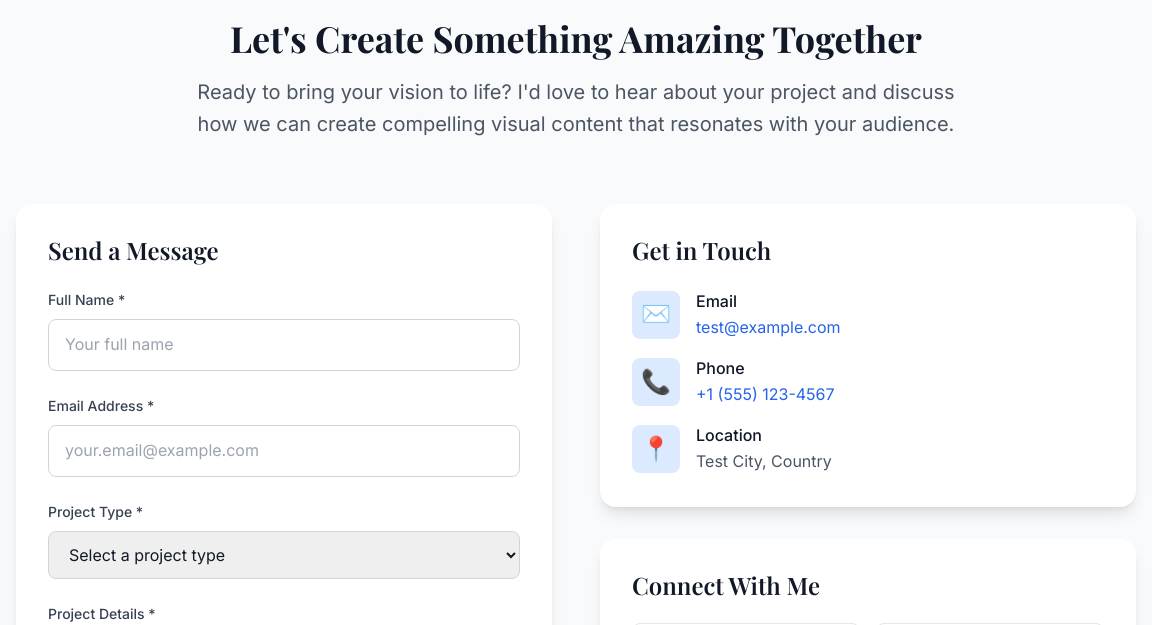
Test: Contact Component Unit Tests › Form Field Validation and Submission › should show success message after successful submission
In the field labelled "Full Name *": (284, 345) [48, 319, 520, 371], type "John Doe"
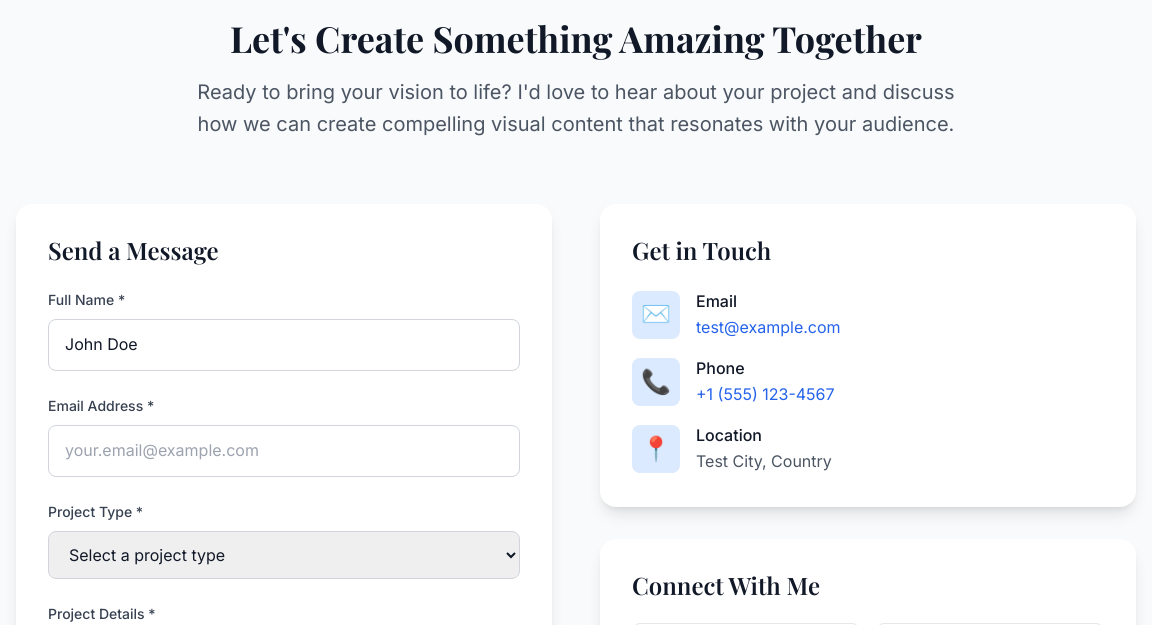
In the field labelled "Email Address *": (284, 451) [48, 425, 520, 477], type "john.doe@example.com"
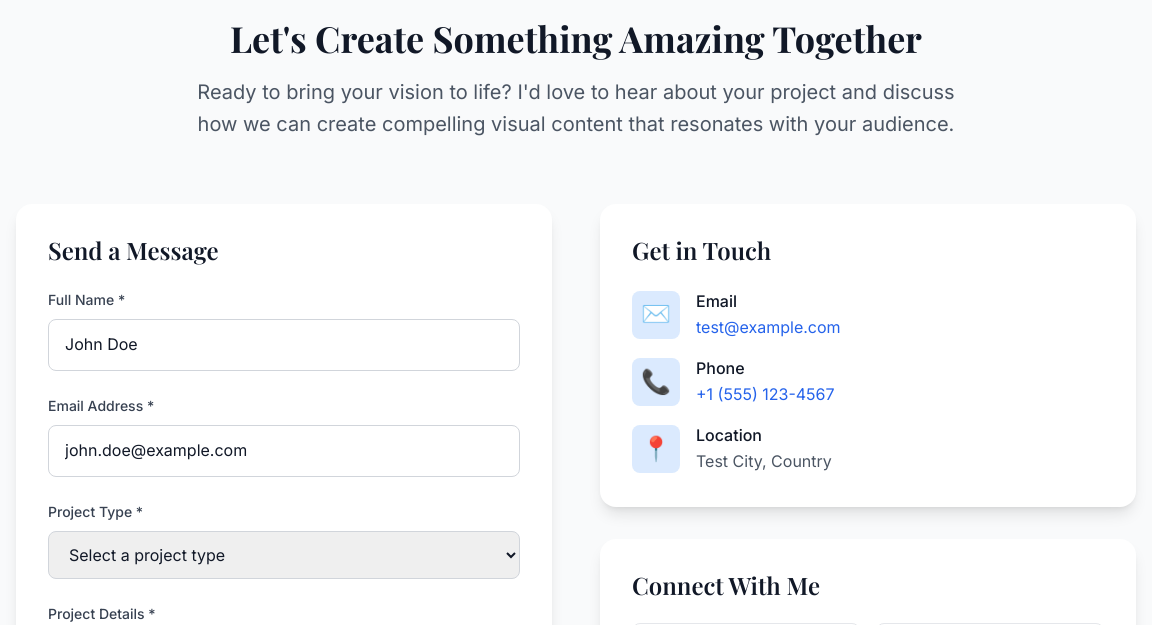
Select "Commercial Video" in the dropdown labelled "Project Type *": (284, 555) [48, 531, 520, 579]
(page scrolled)
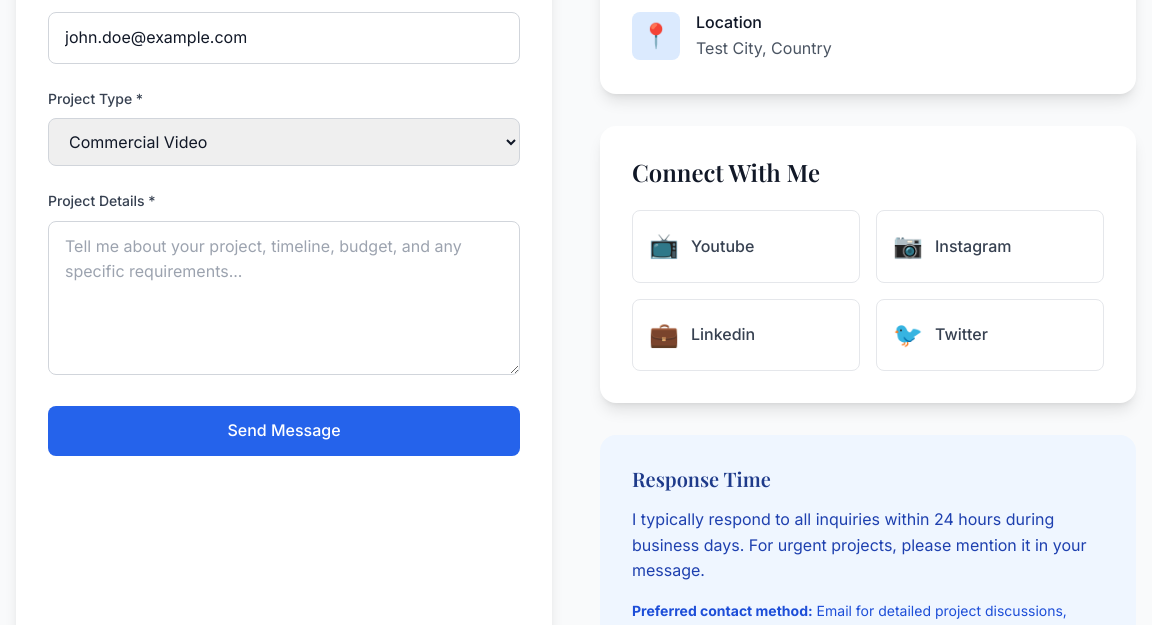
Replace the text in the text box labelled "Project Details *" with "I would like to discuss a commercial video project for my business.": (284, 298) [48, 221, 520, 375]
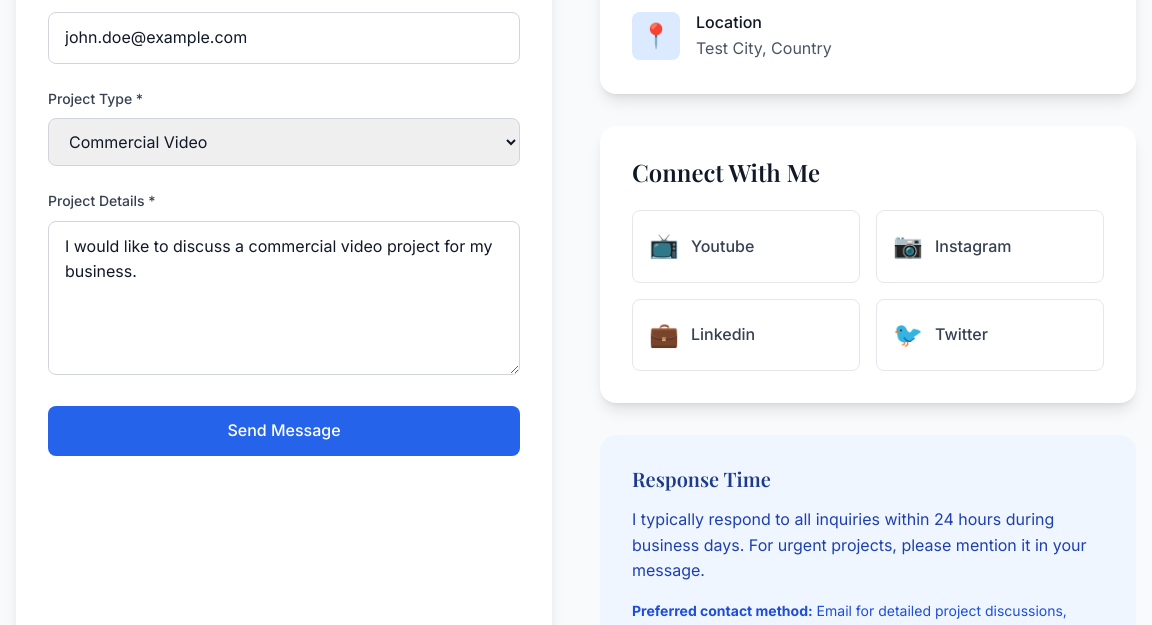
Click the button "Send Message": (284, 431) [48, 406, 520, 456]
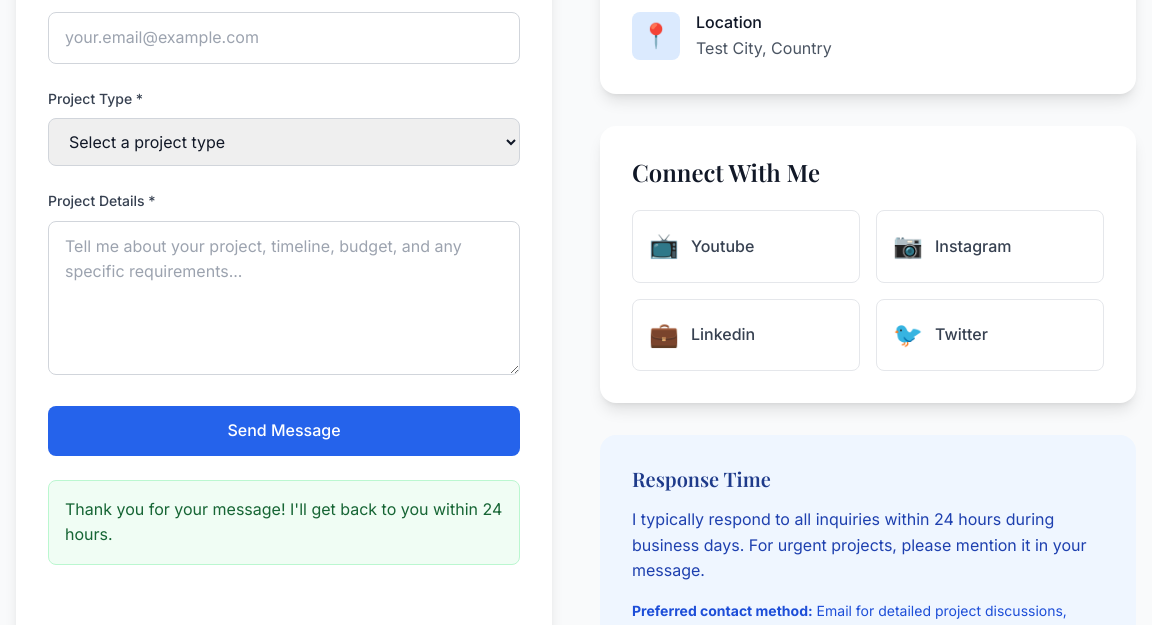
Now the text "Thank you for your message" is shown, box [65, 499, 502, 544]
